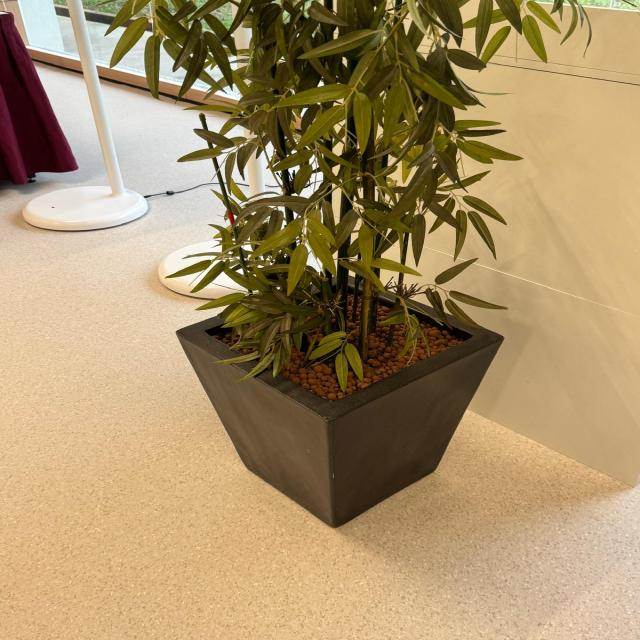Pot: (173, 271, 507, 530)
